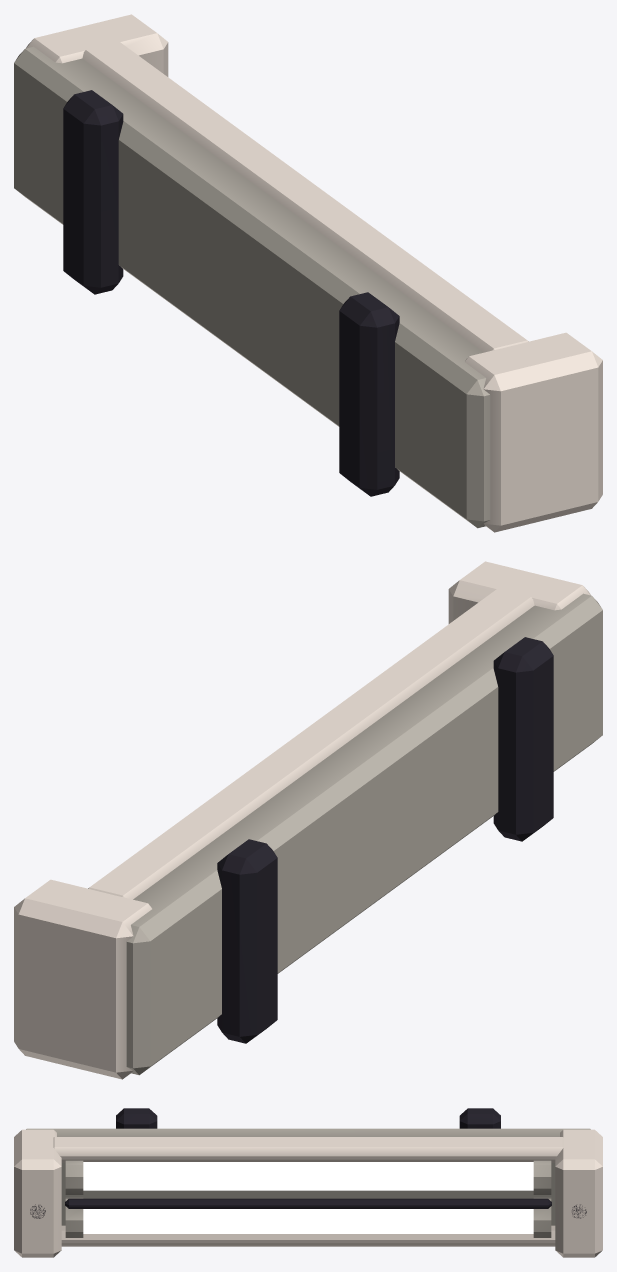
File: prop.fluorescent-strip.glb
The picture shows the model from 3 angles, top to bottom: view 1: azimuth 30°, elevation 25°; view 2: azimuth 150°, elevation 25°; view 3: azimuth 270°, elevation 25°; orthographic projection. The views are drawn at different scales.
Parts seen in each view (by area): view 1: body; view 2: body; view 3: body.
Boxes of the visible parts, x1,y1,x2,y2 form: body: [14, 14, 602, 532]; body: [14, 561, 602, 1079]; body: [14, 1108, 602, 1257].
Bounding box in the file's own units: 0.3645 × 0.4 × 1.85.
